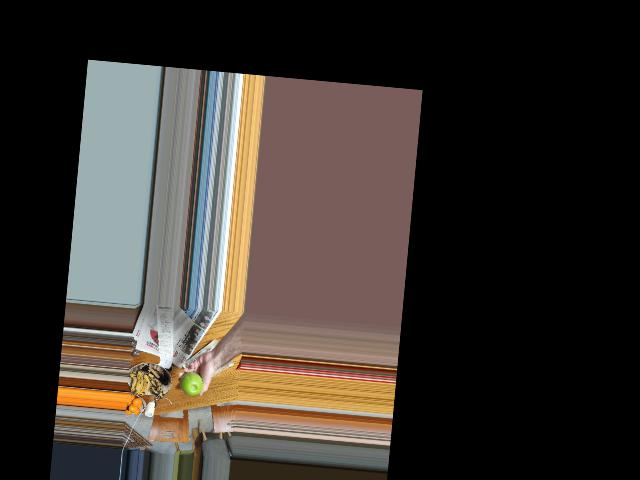apple: (178, 371, 204, 396)
